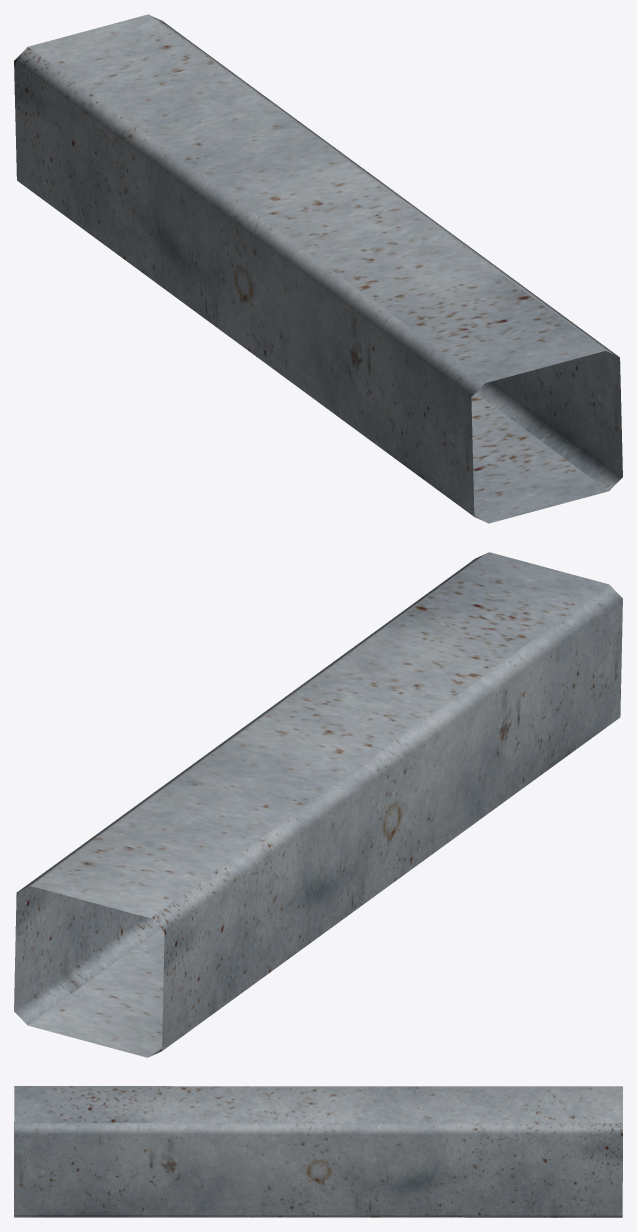
Rendered from Ob_WoodSupportMetal2_RC.fbx.
3 views of the same model, one above another, from view 1: azimuth 30°, elevation 25°; view 2: azimuth 150°, elevation 25°; view 3: azimuth 270°, elevation 25° (orthographic). The views are drawn at different scales.
Visible parts, largest first — view 1: Ob_WoodSupportMetal2_RC; view 2: Ob_WoodSupportMetal2_RC; view 3: Ob_WoodSupportMetal2_RC.
Boxes of the visible parts, x1,y1,x2,y2 form: Ob_WoodSupportMetal2_RC: (14, 14, 622, 523); Ob_WoodSupportMetal2_RC: (14, 552, 622, 1057); Ob_WoodSupportMetal2_RC: (14, 1086, 622, 1217).
Bounding box in the file's own units: 67.84 × 61.24 × 353.
